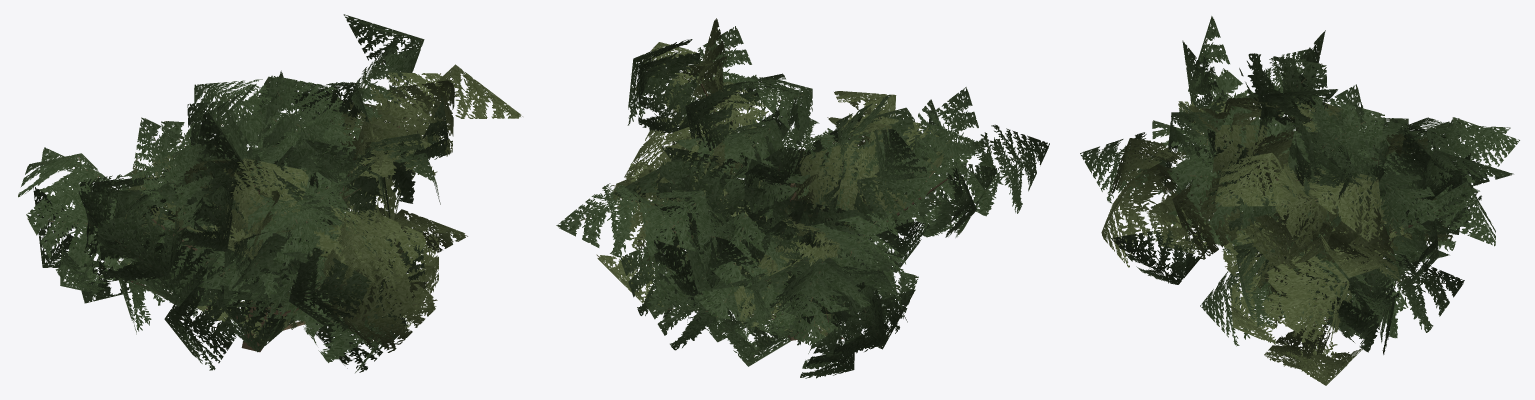
File: SM_CN_Juniper_A_LOD2.fbx
3 views of the same model, side by side, from view 1: azimuth 30°, elevation 25°; view 2: azimuth 150°, elevation 25°; view 3: azimuth 270°, elevation 25° (orthographic). The views are drawn at different scales.
Parts seen in each view (by area): view 1: SM_CN_Juniper_A_LOD2; view 2: SM_CN_Juniper_A_LOD2; view 3: SM_CN_Juniper_A_LOD2.
Boxes of the visible parts, x1,y1,x2,y2 form: SM_CN_Juniper_A_LOD2: [18, 14, 522, 372]; SM_CN_Juniper_A_LOD2: [556, 18, 1049, 378]; SM_CN_Juniper_A_LOD2: [1080, 16, 1519, 385].
Size of the model in its own units: 2.35 by 2.29 by 1.65.
